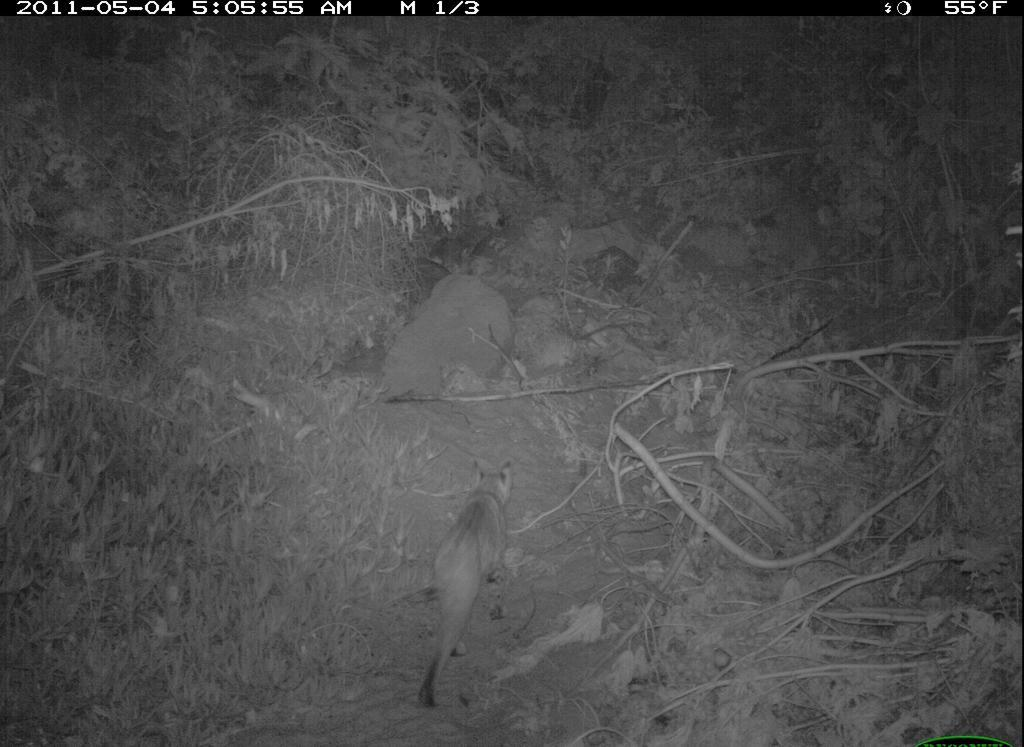bobcat: (392, 445, 527, 717)
